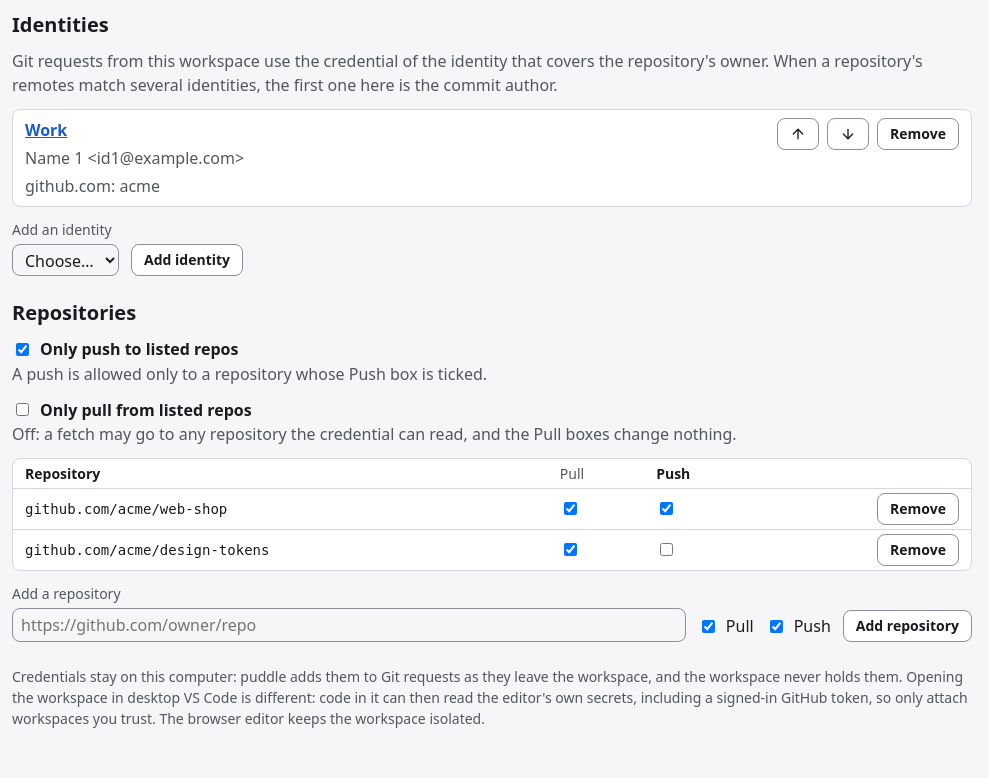
it: the repository table › changes a toggle at once, and puts it back when the change is refused
Check: the heading "Identities" is shown, box [12, 11, 109, 38]
Check: the table is shown, box [13, 459, 971, 570]
Click the checkbox named "Pull github.com/acme/design-tokens".
click(570, 549)  # box [564, 542, 577, 556]
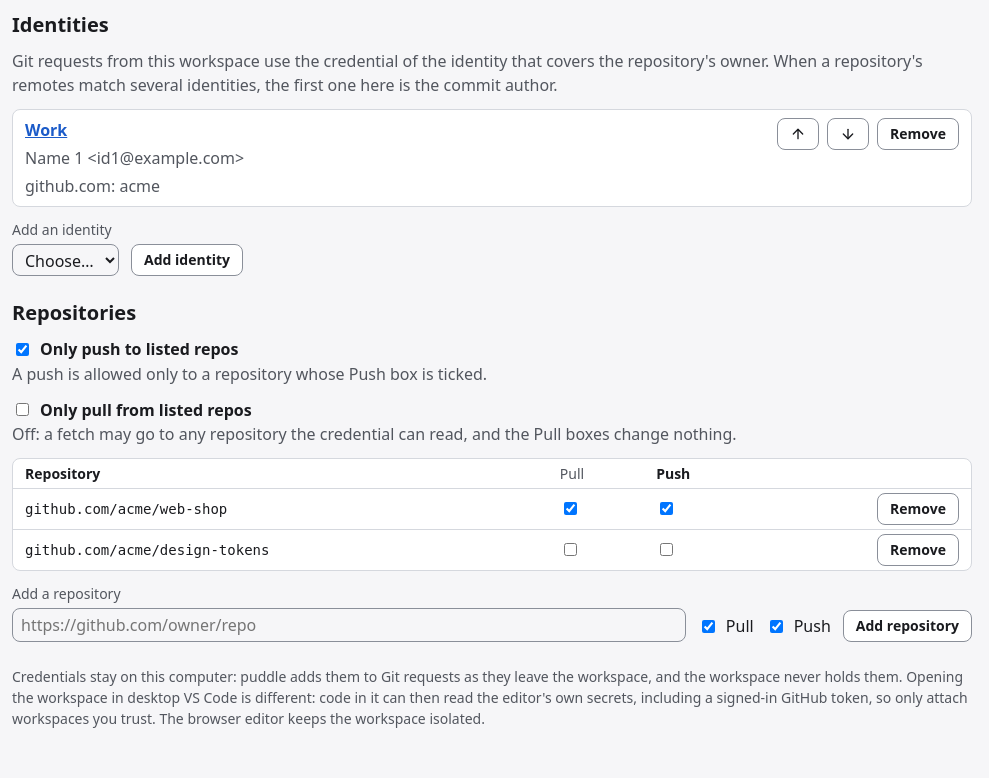
Click the checkbox named "Push github.com/acme/design-tokens".
click(667, 549)  # box [660, 542, 673, 556]
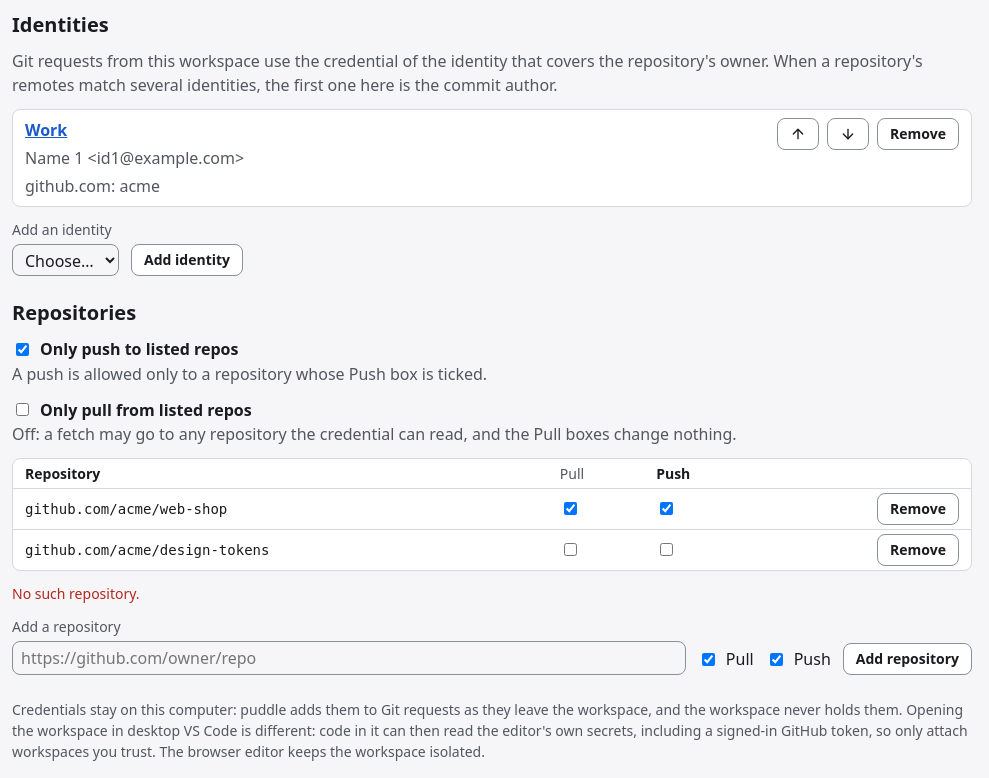
Check: the message reads "No such repository.", box [12, 584, 140, 603]
